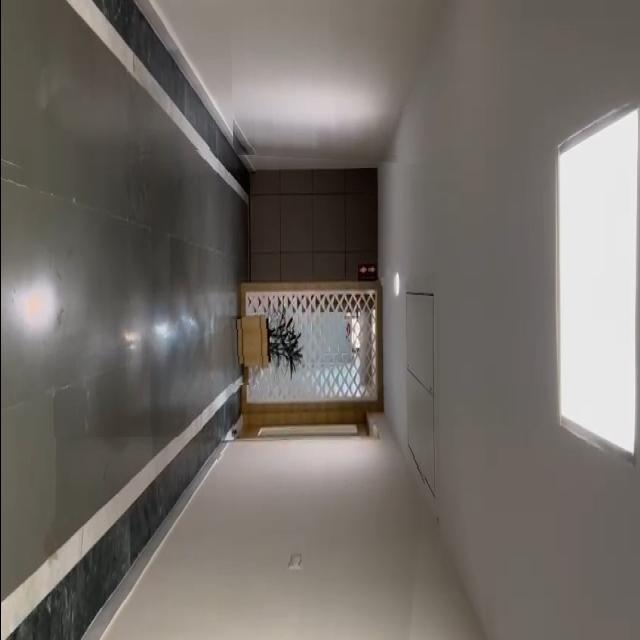floor: (0, 147, 235, 437)
furniture: (224, 316, 297, 386)
wall: (216, 451, 427, 640), (228, 0, 452, 166)
